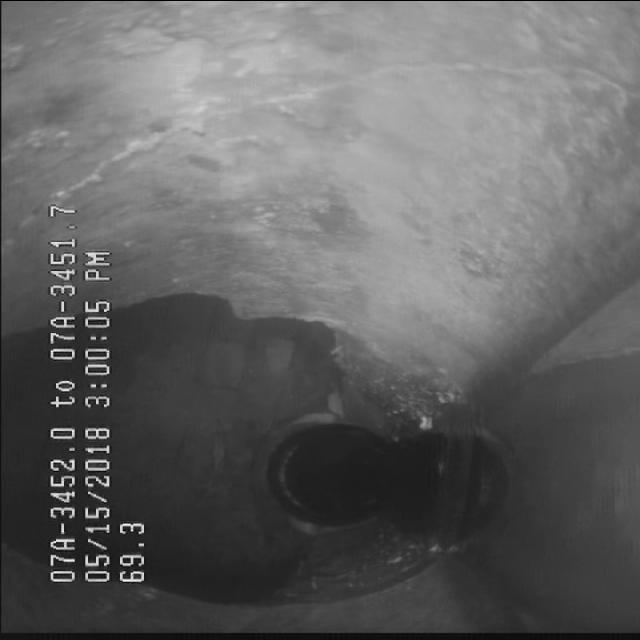Crack: (86, 48, 544, 168)
